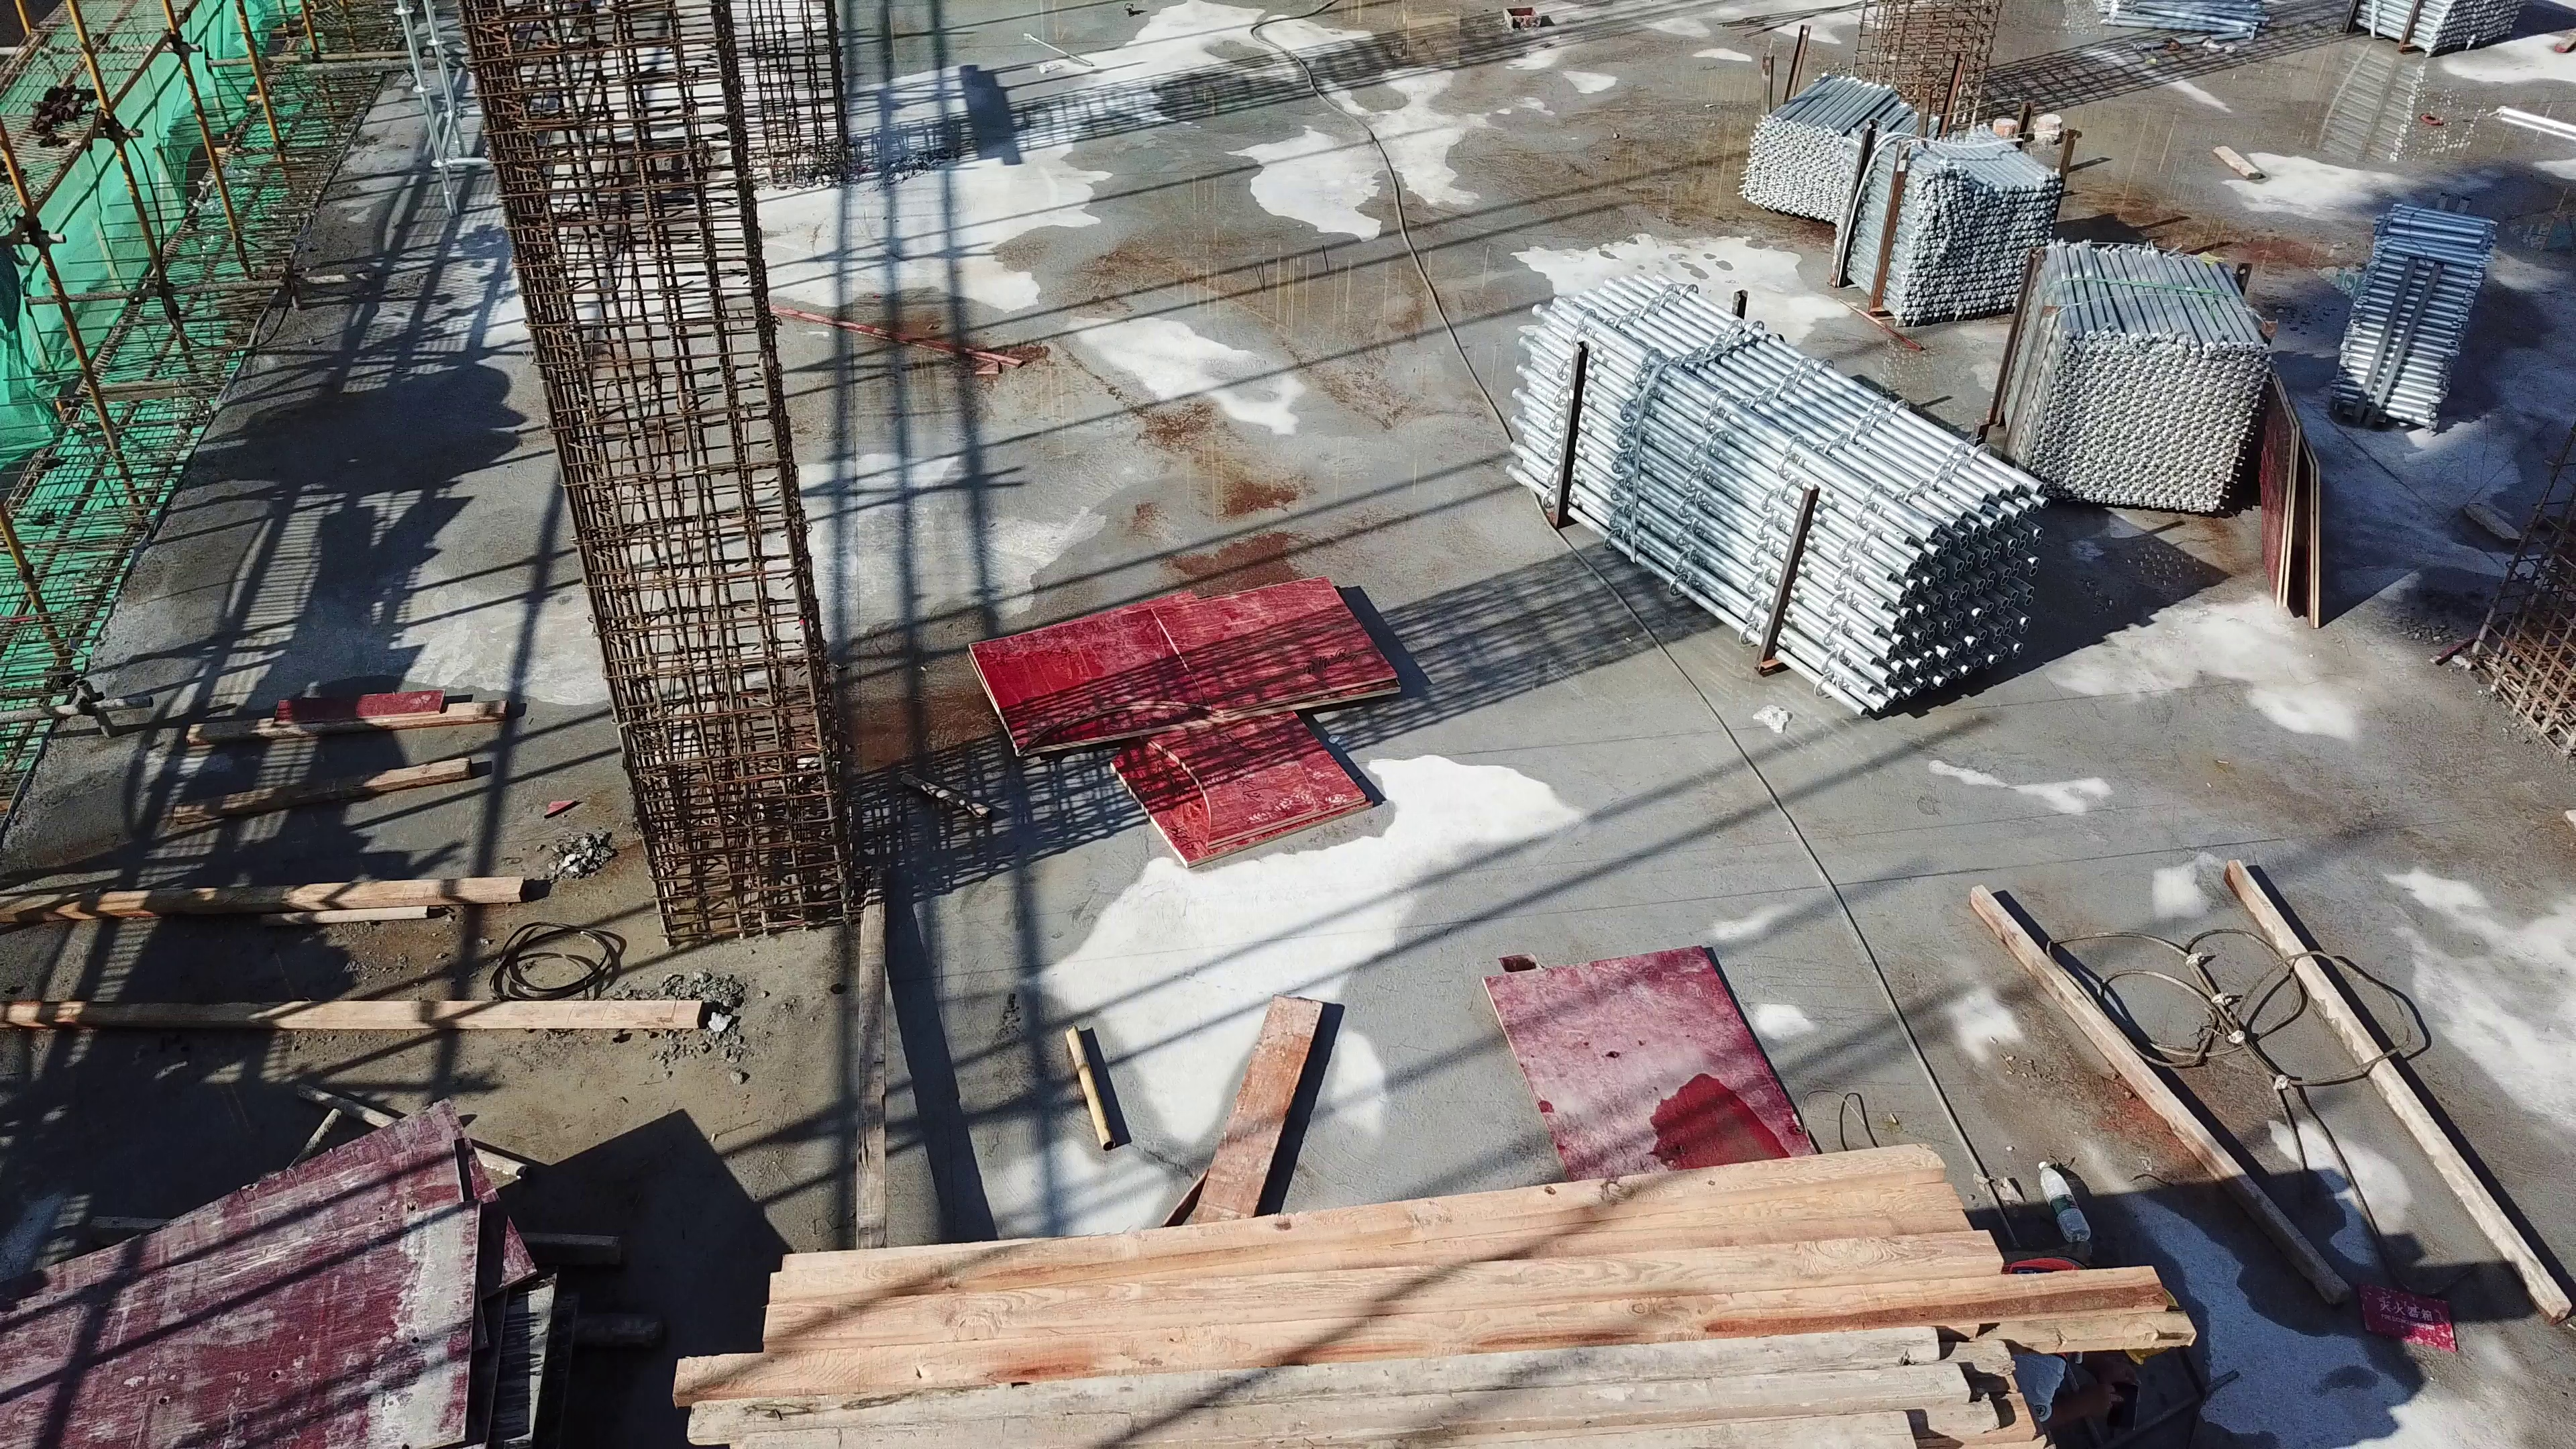board: (19, 1086, 573, 1449), (964, 573, 1410, 872), (1479, 931, 1824, 1177)
scaffold: (1497, 276, 2068, 725), (1736, 57, 2063, 322), (1994, 234, 2286, 527), (2321, 203, 2500, 441), (2077, 0, 2526, 64)
wood: (614, 1122, 2245, 1449)
